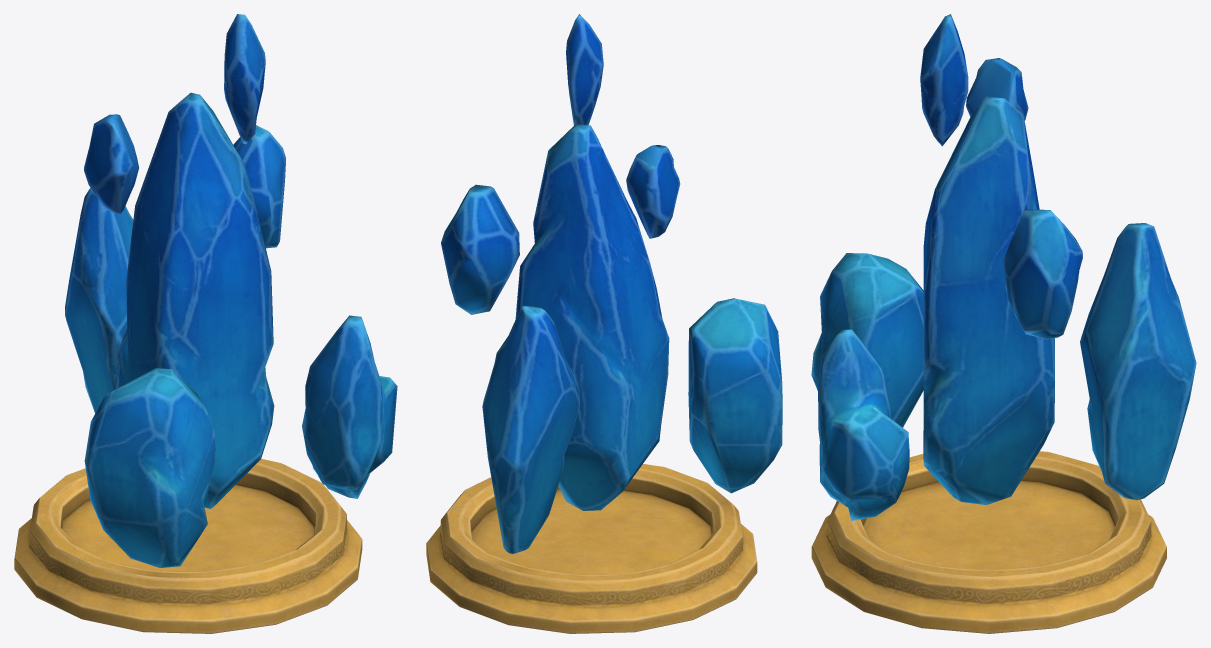
File: the_magic_crystal.fbx
3 views of the same model, side by side, from view 1: azimuth 30°, elevation 25°; view 2: azimuth 150°, elevation 25°; view 3: azimuth 270°, elevation 25° (orthographic). The views are drawn at different scales.
Visible parts, largest first — view 1: node_aaa0d3b1_db84_4e5f_a9af_a8b8b75e1d13_mesh0, node_af79af9e_bc5a_4fff_8108_075c3e8ac44b_mesh0; view 2: node_aaa0d3b1_db84_4e5f_a9af_a8b8b75e1d13_mesh0, node_af79af9e_bc5a_4fff_8108_075c3e8ac44b_mesh0; view 3: node_aaa0d3b1_db84_4e5f_a9af_a8b8b75e1d13_mesh0, node_af79af9e_bc5a_4fff_8108_075c3e8ac44b_mesh0.
Part boxes in pixels (x1,y1,x2,y2): node_aaa0d3b1_db84_4e5f_a9af_a8b8b75e1d13_mesh0: (65,14,397,567); node_af79af9e_bc5a_4fff_8108_075c3e8ac44b_mesh0: (14,459,362,633); node_aaa0d3b1_db84_4e5f_a9af_a8b8b75e1d13_mesh0: (441,14,782,554); node_af79af9e_bc5a_4fff_8108_075c3e8ac44b_mesh0: (426,464,757,633); node_aaa0d3b1_db84_4e5f_a9af_a8b8b75e1d13_mesh0: (811,14,1196,520); node_af79af9e_bc5a_4fff_8108_075c3e8ac44b_mesh0: (811,451,1166,633).
Bounding box in the file's own units: 115 × 200 × 125.
Materials: 2 (2 with a texture image).
